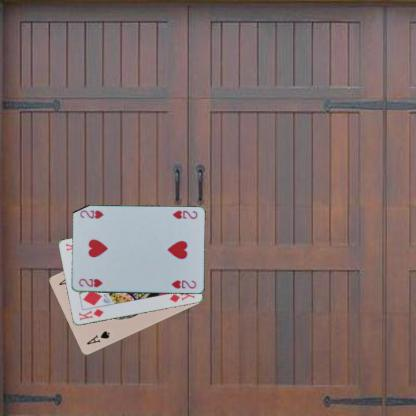2h: (76, 276, 104, 288), (170, 208, 198, 220)
As: (84, 329, 111, 346)
Kd: (76, 306, 105, 322)
